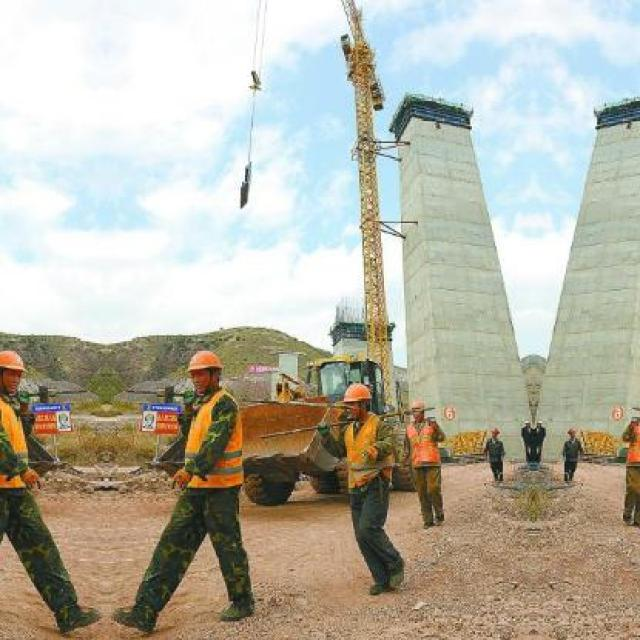helmet: (185, 350, 223, 374), (0, 345, 28, 369), (341, 383, 373, 402), (409, 396, 426, 411)
